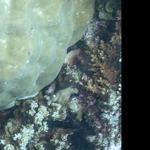dead: (1, 1, 119, 146)
